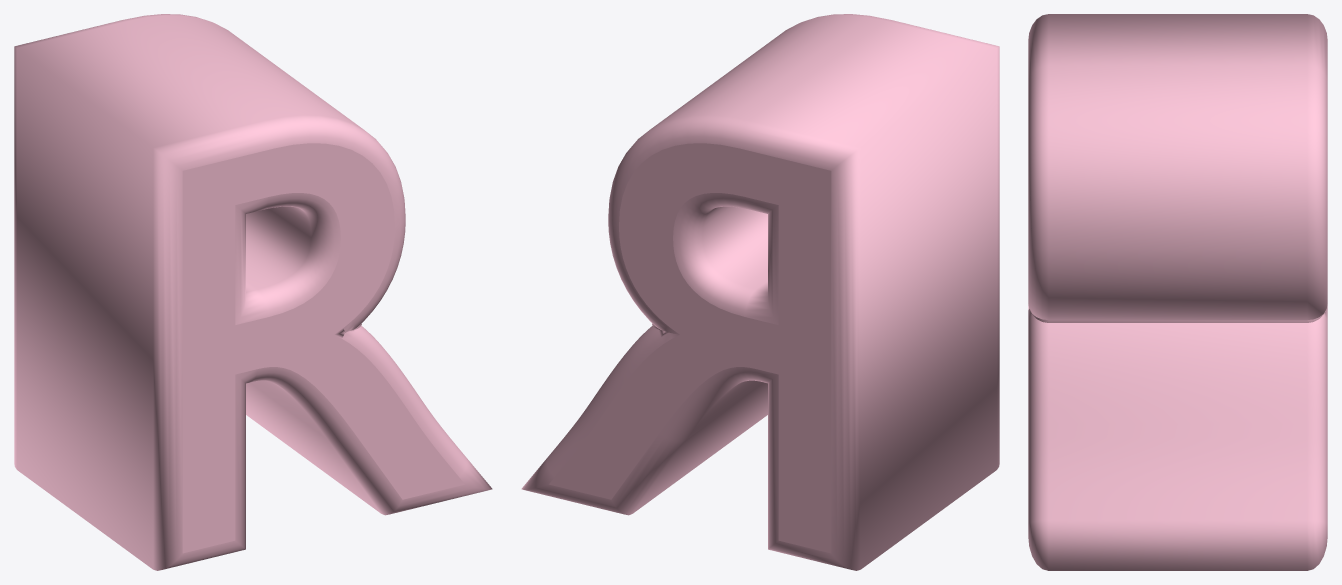
The model's file is letter_R.glb.
The picture shows the model from 3 angles, left to right: view 1: azimuth 30°, elevation 25°; view 2: azimuth 150°, elevation 25°; view 3: azimuth 270°, elevation 25°; orthographic projection. The views are drawn at different scales.
Visible parts, largest first — view 1: Text; view 2: Text; view 3: Text.
Part boxes in pixels (bbox=[...]): Text: bbox=[14, 14, 492, 570]; Text: bbox=[521, 14, 999, 570]; Text: bbox=[1028, 14, 1327, 570].
Size of the model in its own units: 0.6305 by 0.752 by 0.51.
